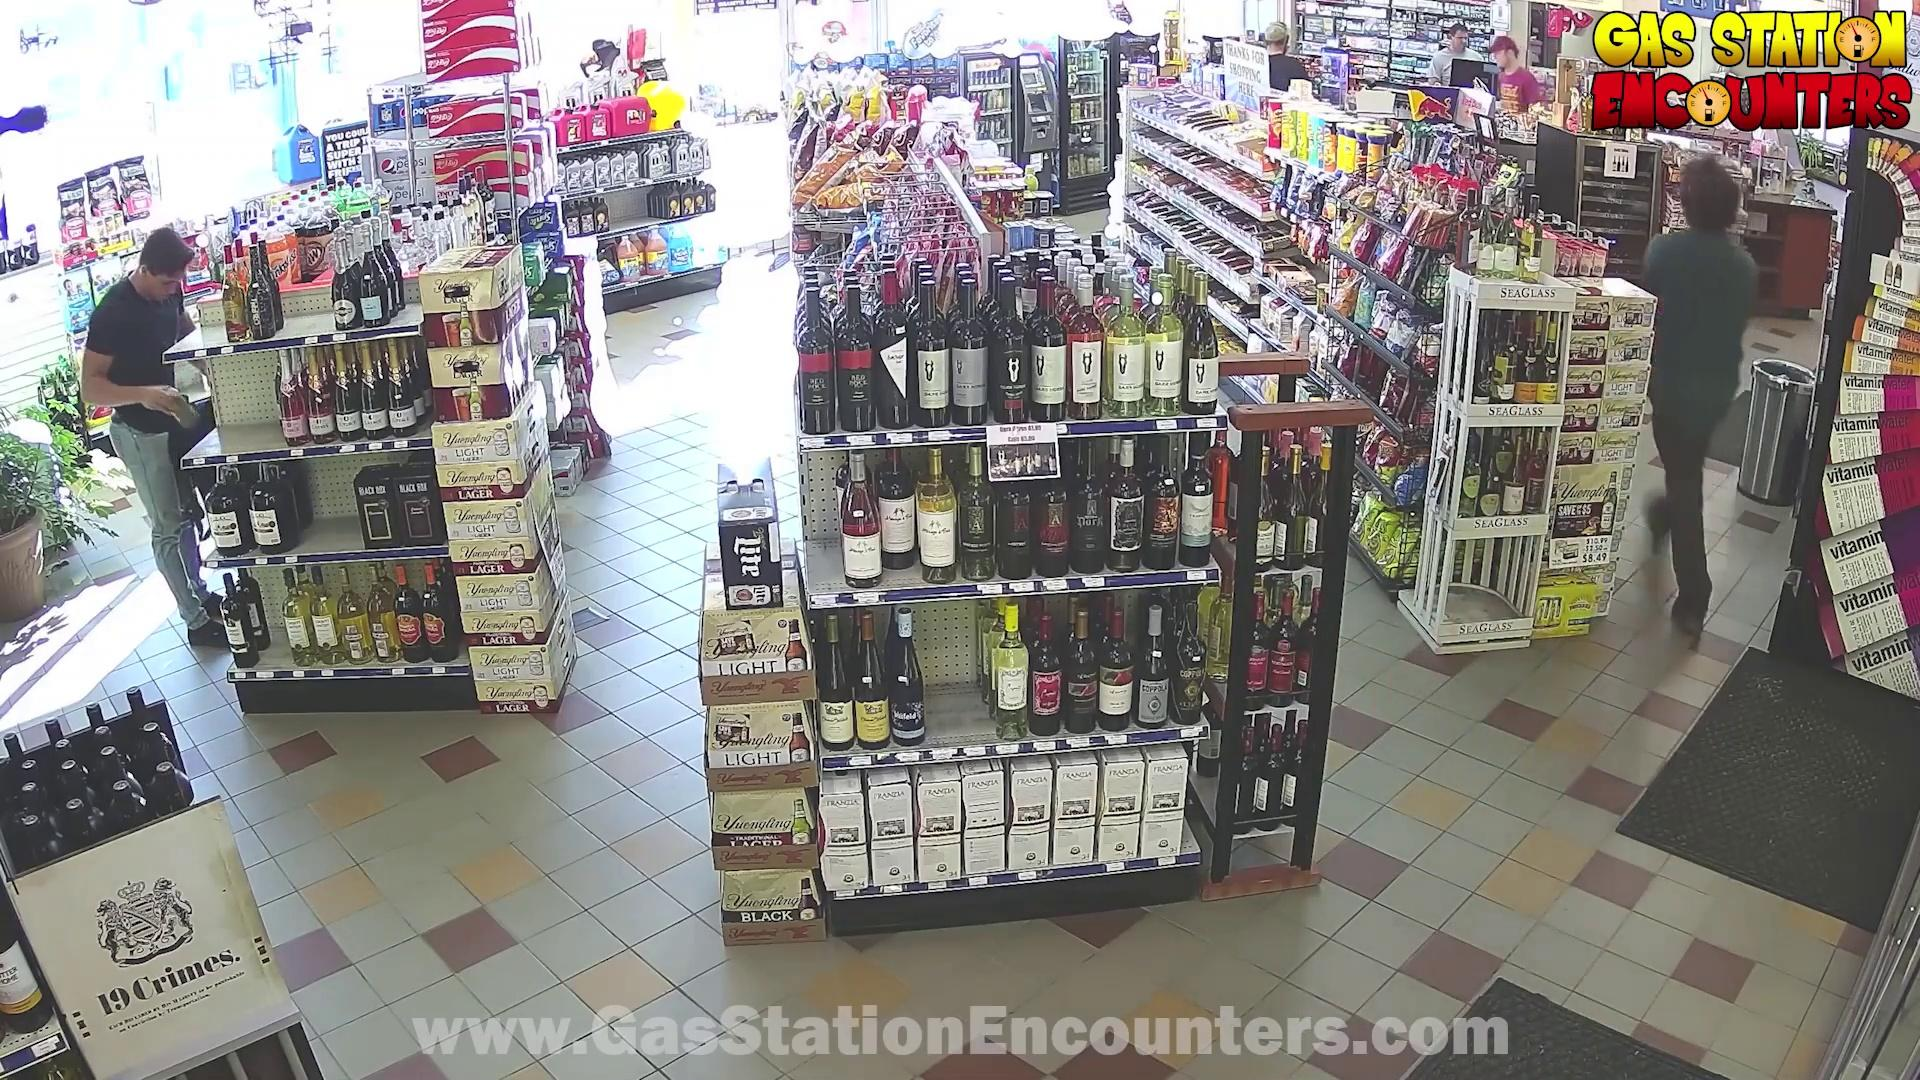1: (157, 385, 207, 427)
2: (11, 162, 255, 695)
3: (1567, 166, 1869, 633), (1390, 15, 1487, 95)
persone: (148, 413, 223, 485)
